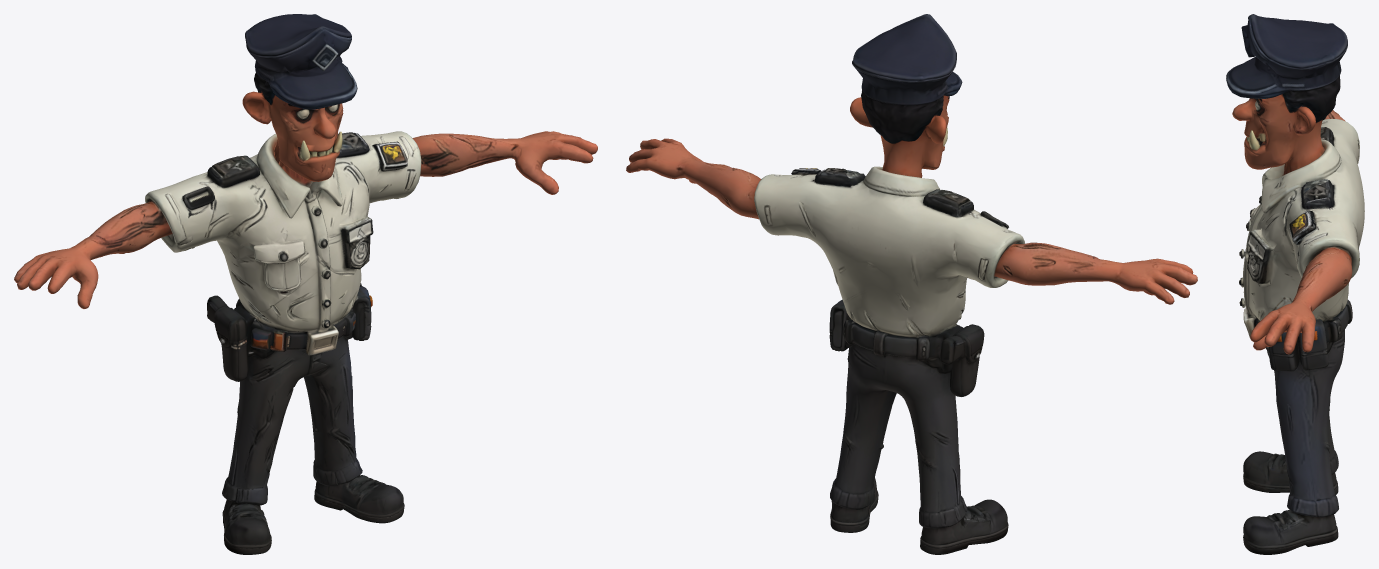
Rendered from mall_cop_ogre.glb.
The picture shows the model from 3 angles, left to right: view 1: azimuth 30°, elevation 25°; view 2: azimuth 150°, elevation 25°; view 3: azimuth 270°, elevation 25°; orthographic projection. The views are drawn at different scales.
Parts seen in each view (by area): view 1: tripo_node_dfc47ac6-cac8-48a7-a680-e2e294475935; view 2: tripo_node_dfc47ac6-cac8-48a7-a680-e2e294475935; view 3: tripo_node_dfc47ac6-cac8-48a7-a680-e2e294475935.
Part boxes in pixels (<box>): tripo_node_dfc47ac6-cac8-48a7-a680-e2e294475935: <box>14,14,597,554</box>; tripo_node_dfc47ac6-cac8-48a7-a680-e2e294475935: <box>626,14,1197,554</box>; tripo_node_dfc47ac6-cac8-48a7-a680-e2e294475935: <box>1226,14,1364,554</box>.
Bounding box in the file's own units: 0.9799 × 0.8325 × 0.2094.
Materials: 1 (1 with a texture image).
